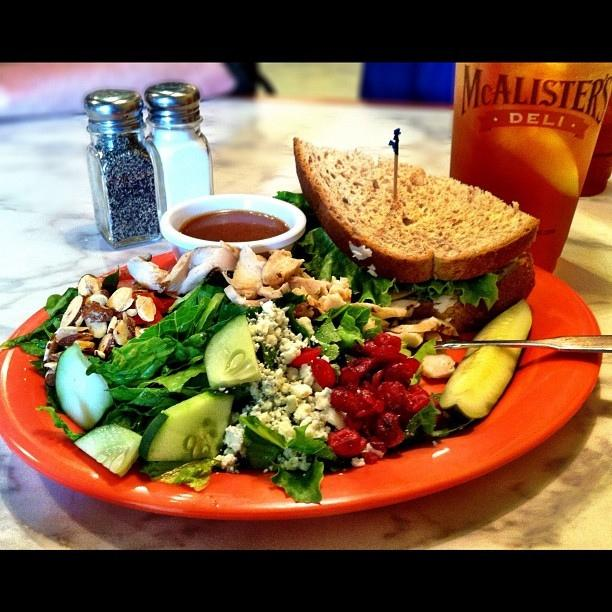cucumber: (439, 298, 532, 419), (138, 390, 235, 462), (55, 343, 114, 432), (204, 313, 261, 390), (74, 423, 142, 478)
